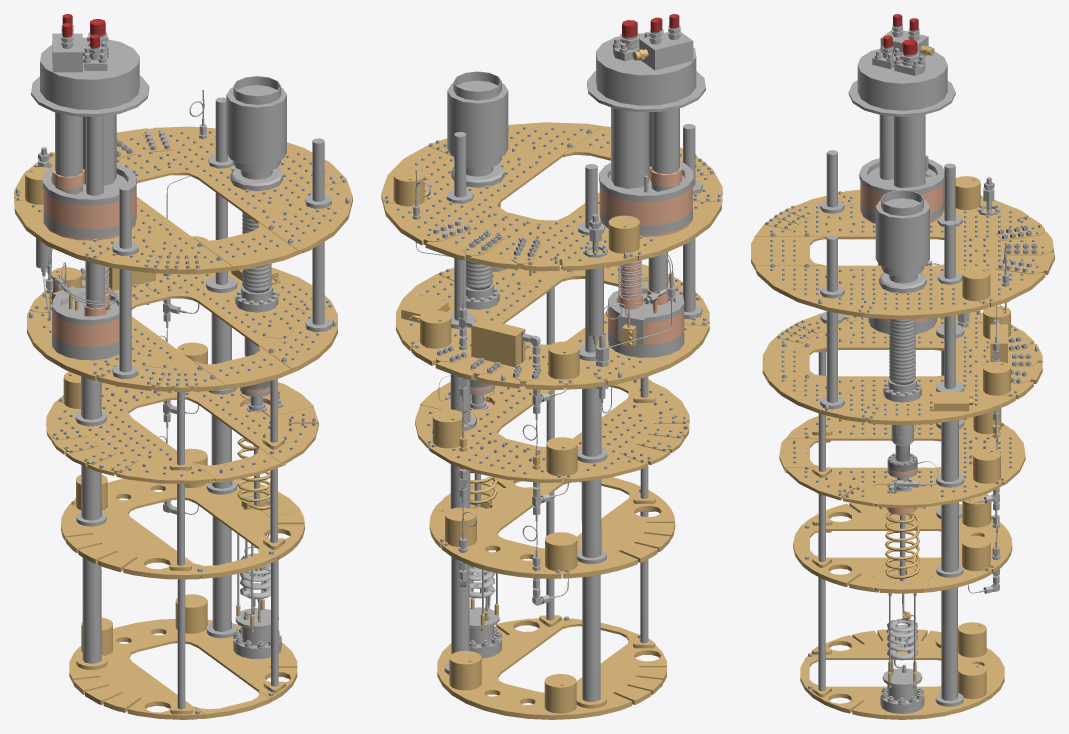
Rendered from MX_Model_Matched_01.gltf.
3 views of the same model, side by side, from view 1: azimuth 30°, elevation 25°; view 2: azimuth 150°, elevation 25°; view 3: azimuth 270°, elevation 25° (orthographic). The views are drawn at different scales.
Visible parts, largest first — view 1: polySurface11473, polySurface11472; view 2: polySurface11473, polySurface11472; view 3: polySurface11473, polySurface11472.
Boxes of the visible parts, box(x1,y1,x2,y2) form: polySurface11473: box(14, 14, 352, 719); polySurface11472: box(15, 128, 349, 714); polySurface11473: box(381, 14, 722, 719); polySurface11472: box(384, 126, 722, 713); polySurface11473: box(751, 14, 1054, 719); polySurface11472: box(765, 176, 1051, 713).
Bounding box in the file's own units: 0.5349 × 1.18 × 0.5344.
Materials: 2 (2 with a texture image).
